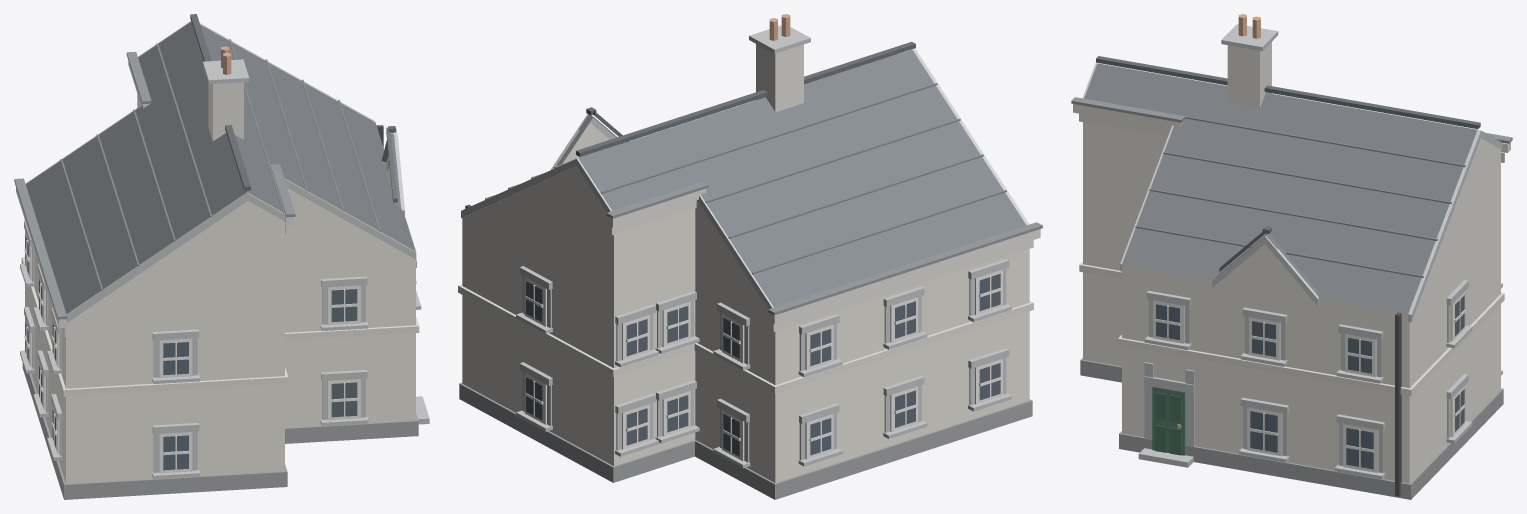
3 views of the same model, side by side, from view 1: azimuth 30°, elevation 25°; view 2: azimuth 150°, elevation 25°; view 3: azimuth 270°, elevation 25° (orthographic). The views are drawn at different scales.
Parts seen in each view (by area): view 1: harl_cream, slate, stone_band, plinth, frame, string, slate_lt, lead, chim_render, slate_dk, window_glass_016, window_glass_014 (+2 smaller); view 2: harl_cream, slate, stone_band, string, plinth, frame, slate_lt, lead, slate_dk, chim_render; view 3: harl_cream, slate, stone_band, plinth, string, frame, slate_lt, slate_dk, chim_render, door_green_p, pipe, door_green (+6 smaller).
Part boxes in pixels (bbox=[...]): harl_cream: bbox=[25, 94, 415, 483]; slate: bbox=[26, 22, 415, 313]; stone_band: bbox=[20, 21, 429, 479]; plinth: bbox=[22, 363, 418, 499]; frame: bbox=[24, 234, 416, 473]; string: bbox=[16, 61, 419, 396]; slate_lt: bbox=[60, 39, 380, 290]; lead: bbox=[14, 51, 295, 319]; chim_render: bbox=[208, 82, 243, 141]; slate_dk: bbox=[190, 14, 397, 202]; window_glass_016: bbox=[331, 382, 357, 417]; window_glass_014: bbox=[163, 435, 188, 470]; harl_cream: bbox=[462, 123, 1029, 482]; slate: bbox=[556, 49, 1026, 307]; stone_band: bbox=[461, 25, 1029, 468]; string: bbox=[458, 188, 1040, 393]; plinth: bbox=[459, 382, 1032, 499]; frame: bbox=[524, 269, 1002, 460]; slate_lt: bbox=[485, 83, 1006, 274]; lead: bbox=[606, 54, 1042, 315]; slate_dk: bbox=[576, 41, 915, 156]; chim_render: bbox=[756, 44, 803, 112]; harl_cream: bbox=[1083, 122, 1500, 483]; slate: bbox=[1084, 63, 1477, 314]; stone_band: bbox=[1082, 24, 1502, 479]; plinth: bbox=[1080, 358, 1503, 499]; string: bbox=[1073, 104, 1510, 396]; frame: bbox=[1153, 291, 1465, 472]; slate_lt: bbox=[1085, 98, 1493, 277]; slate_dk: bbox=[1096, 56, 1480, 271]; chim_render: bbox=[1227, 42, 1271, 108]; door_green_p: bbox=[1155, 392, 1181, 455]; pipe: bbox=[1395, 312, 1401, 496]; door_green: bbox=[1152, 386, 1185, 455].
Bounding box in the file's own units: 13.94 × 11.03 × 11.95.
